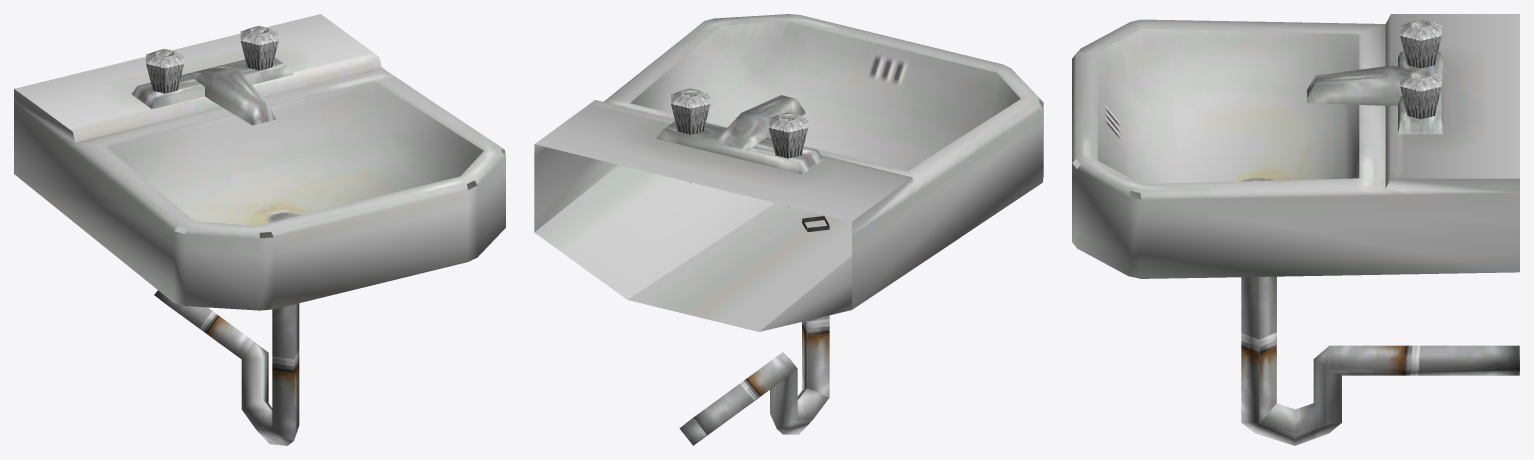
The model's file is cleansink.fbx.
3 renders of one model, left to right at view 1: azimuth 30°, elevation 25°; view 2: azimuth 150°, elevation 25°; view 3: azimuth 270°, elevation 25°, orthographic. The views are drawn at different scales.
Visible parts, largest first — view 1: mesh_0; view 2: mesh_0; view 3: mesh_0.
Part boxes in pixels (x1,y1,x2,y2): mesh_0: (14, 14, 505, 445); mesh_0: (534, 14, 1043, 445); mesh_0: (1072, 14, 1519, 445).
Size of the model in its own units: 53.98 by 56.19 by 57.5.
1 material, 1 textured.
